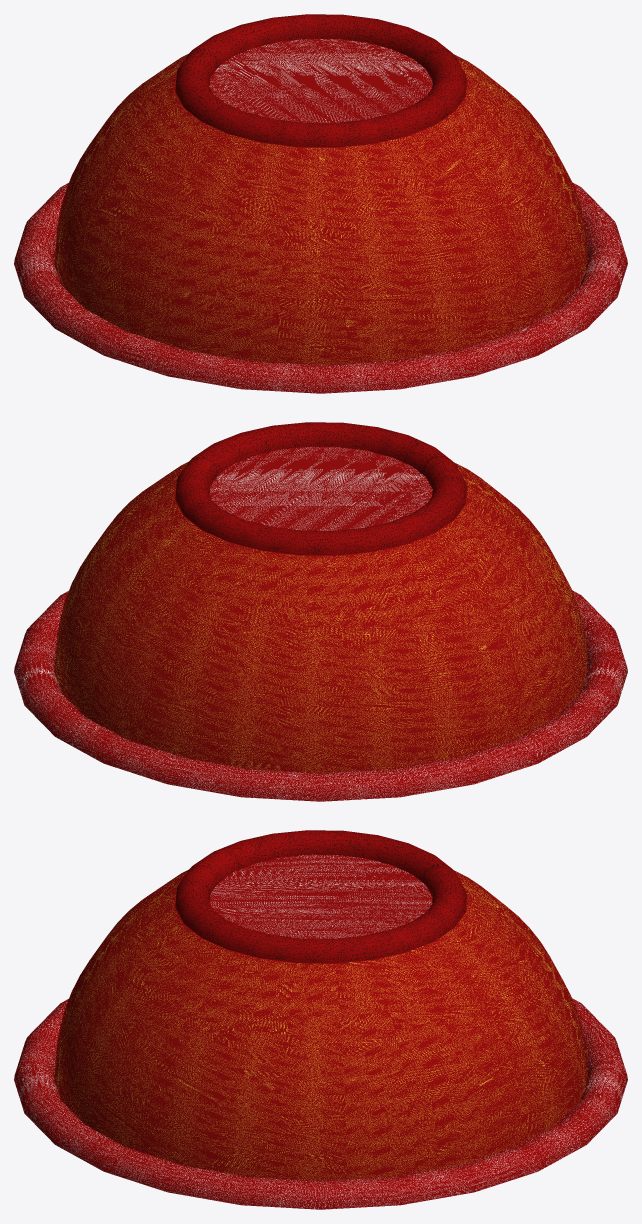
Rendered from yellowNote.dae.
The picture shows the model from 3 angles, top to bottom: view 1: azimuth 30°, elevation 25°; view 2: azimuth 150°, elevation 25°; view 3: azimuth 270°, elevation 25°; orthographic projection.
Visible parts, largest first — view 1: group_0 (×4); view 2: group_0 (×4); view 3: group_0 (×4).
Boxes of the visible parts, x1,y1,x2,y2 form: group_0 (×4): [14, 14, 627, 393]; group_0 (×4): [14, 422, 627, 801]; group_0 (×4): [14, 830, 627, 1209].
Size of the model in its own units: 78.74 by 78.74 by 27.43.
